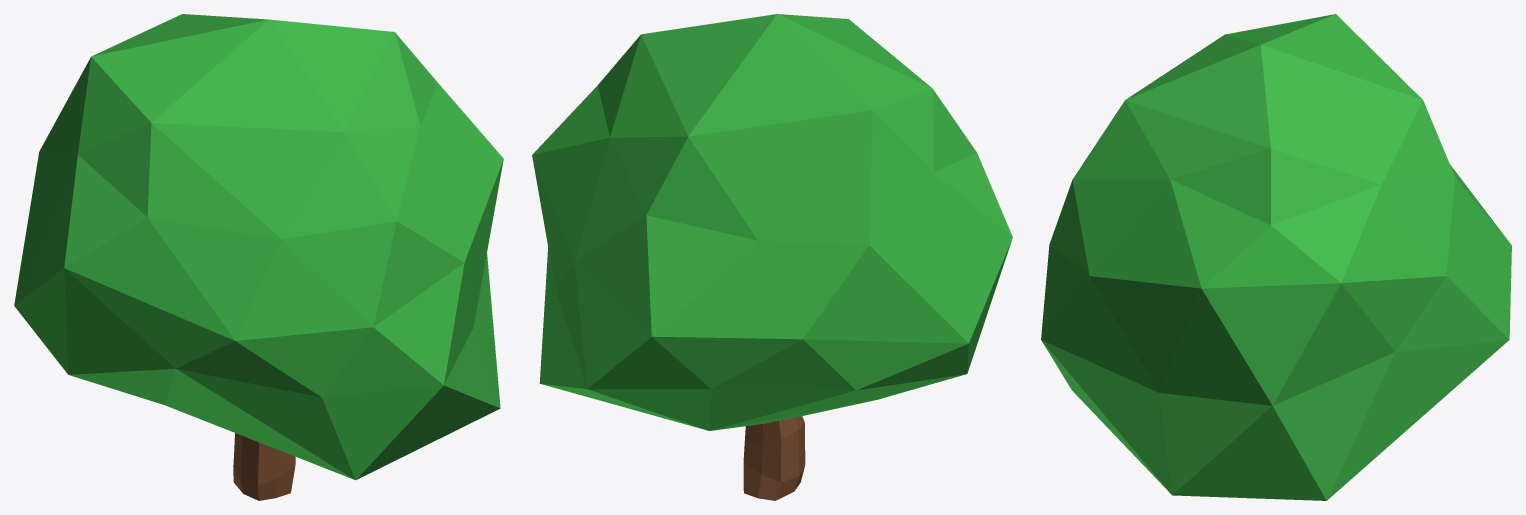
File: Tree_61_Green.fbx
3 views of the same model, side by side, from view 1: azimuth 30°, elevation 25°; view 2: azimuth 150°, elevation 25°; view 3: azimuth 270°, elevation 25° (orthographic). The views are drawn at different scales.
Visible parts, largest first — view 1: Tree_61_Green_Part_1, Tree_61_Green_Part_2; view 2: Tree_61_Green_Part_1, Tree_61_Green_Part_2; view 3: Tree_61_Green_Part_1.
Boxes of the visible parts, x1=… form: Tree_61_Green_Part_1: x1=14, y1=14, x2=503, y2=480; Tree_61_Green_Part_2: x1=233, y1=433, x2=295, y2=500; Tree_61_Green_Part_1: x1=532, y1=14, x2=1012, y2=430; Tree_61_Green_Part_2: x1=743, y1=416, x2=805, y2=500; Tree_61_Green_Part_1: x1=1041, y1=14, x2=1511, y2=500.
Size of the model in its own units: 760 by 766 by 750.
